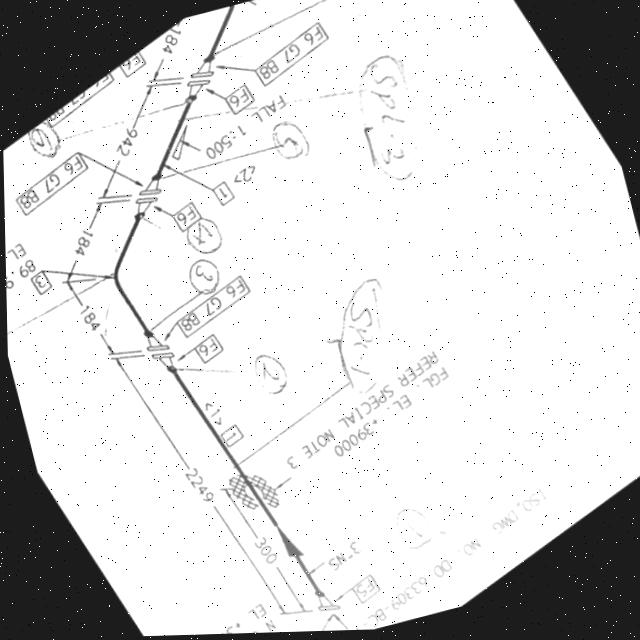Item number: (252, 22, 331, 94), (173, 275, 252, 346), (11, 151, 91, 221), (221, 84, 257, 121), (190, 334, 224, 371), (170, 201, 201, 238), (118, 52, 149, 85), (348, 577, 379, 610), (27, 269, 54, 303), (210, 181, 237, 212), (219, 424, 245, 452)
Measrement: (101, 353, 284, 634), (198, 95, 296, 170), (98, 106, 154, 200), (61, 272, 117, 365), (63, 198, 111, 285), (320, 540, 363, 582)
Pipeline: (104, 41, 341, 623)
Symbol: (178, 60, 223, 106), (128, 178, 172, 223), (138, 332, 180, 378), (310, 592, 345, 627)
Weld number: (388, 506, 437, 561), (248, 352, 294, 406), (267, 119, 315, 170), (183, 252, 227, 302), (24, 122, 68, 167), (349, 0, 394, 11)
other: (357, 487, 545, 632), (281, 349, 451, 478), (4, 240, 42, 300)
